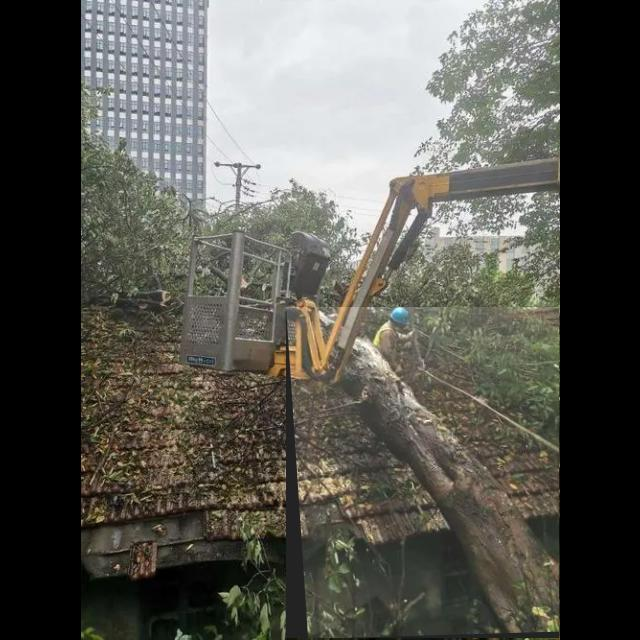fallen_tree: (286, 307, 560, 639)
